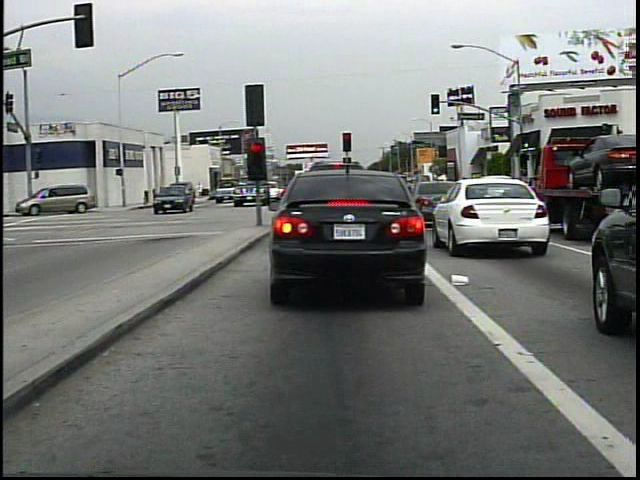person: (196, 179, 206, 202)
